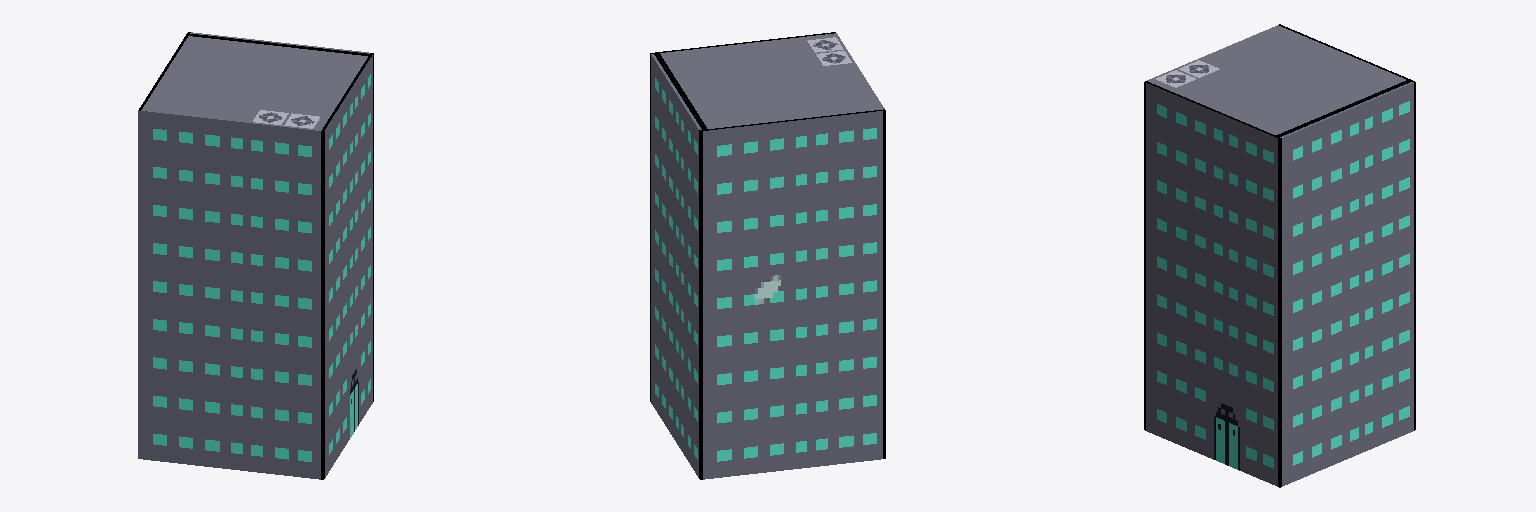
The picture shows the model from 3 angles: view 1: azimuth 30°, elevation 25°; view 2: azimuth 150°, elevation 25°; view 3: azimuth 270°, elevation 25°; orthographic projection.
Visible parts, largest first — view 1: building1; view 2: building1; view 3: building1.
Part boxes in pixels (bbox=[...]): building1: bbox=[138, 32, 373, 479]; building1: bbox=[650, 32, 885, 479]; building1: bbox=[1144, 24, 1415, 487].
Bounding box in the file's own units: 56.57 × 80 × 56.57.
Materials: 1 (1 with a texture image).